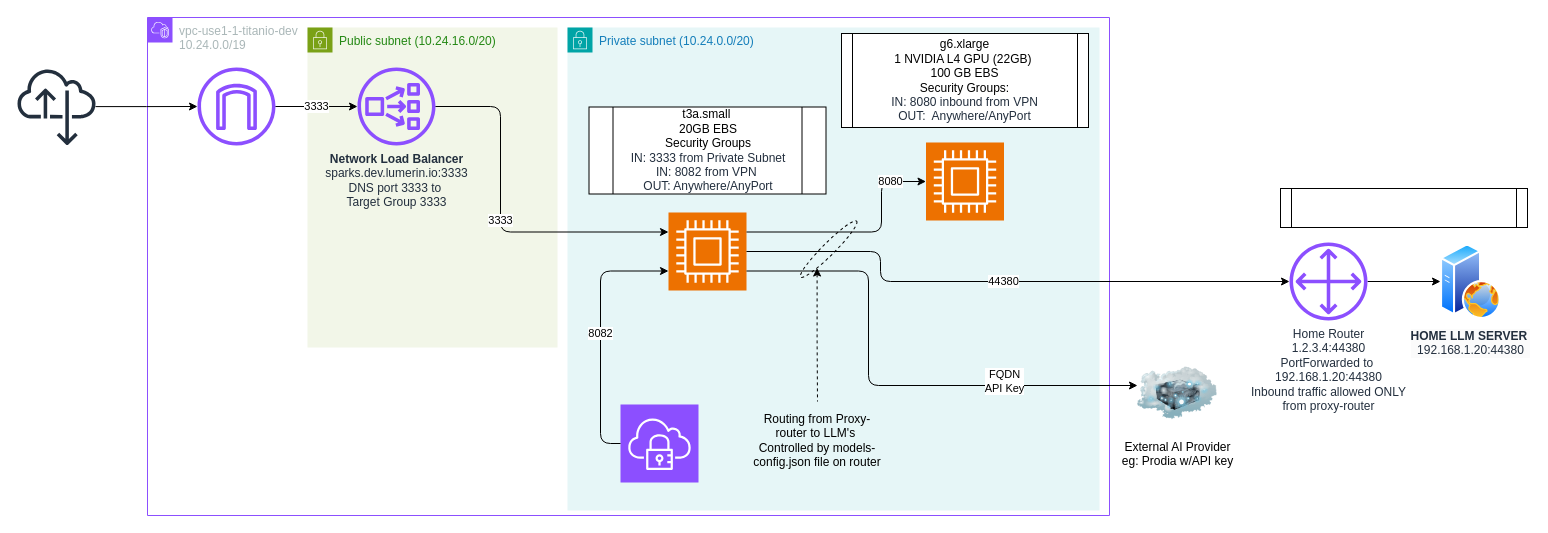
Image size: 1548x533. Some labels were removed from this diagram. Each missing label, with the centre of its shape:
"Client VPN" belongs at (x=659, y=443).
"Home Server w/ 3090 GPU llama.cpp and tuned model" belongs at (x=1404, y=208).
"Internet" belongs at (x=56, y=106).
"LLM SERVER vector-int1.dev.lumerin.io 10.24.0.59" belongs at (x=964, y=181).
"PROXY-ROUTER SERVER sparks-int1.dev.lumerin.io 10.24.0.7" belongs at (x=707, y=251).
